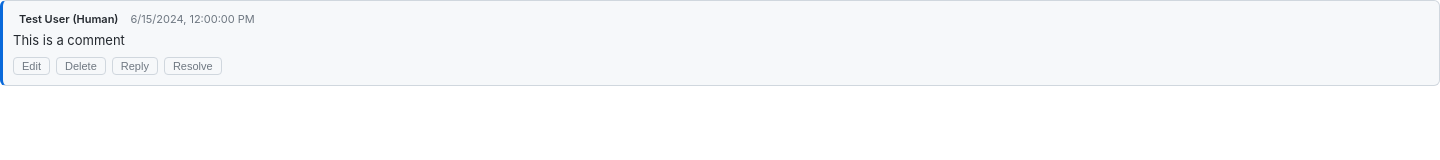
it: CommentThread - existing functionality › Edit button makes comment editable
What coordinates should you click on to do the following:
click the button "Edit"
I would click on:
 (32, 66)
Its box is x1=13 y1=57 x2=50 y2=75.
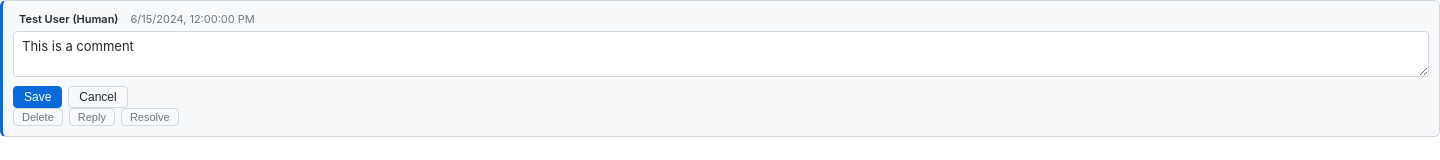
Now the text box is shown, box x1=13 y1=31 x2=1429 y2=77
Now the button "Save" is shown, box x1=13 y1=86 x2=62 y2=108
